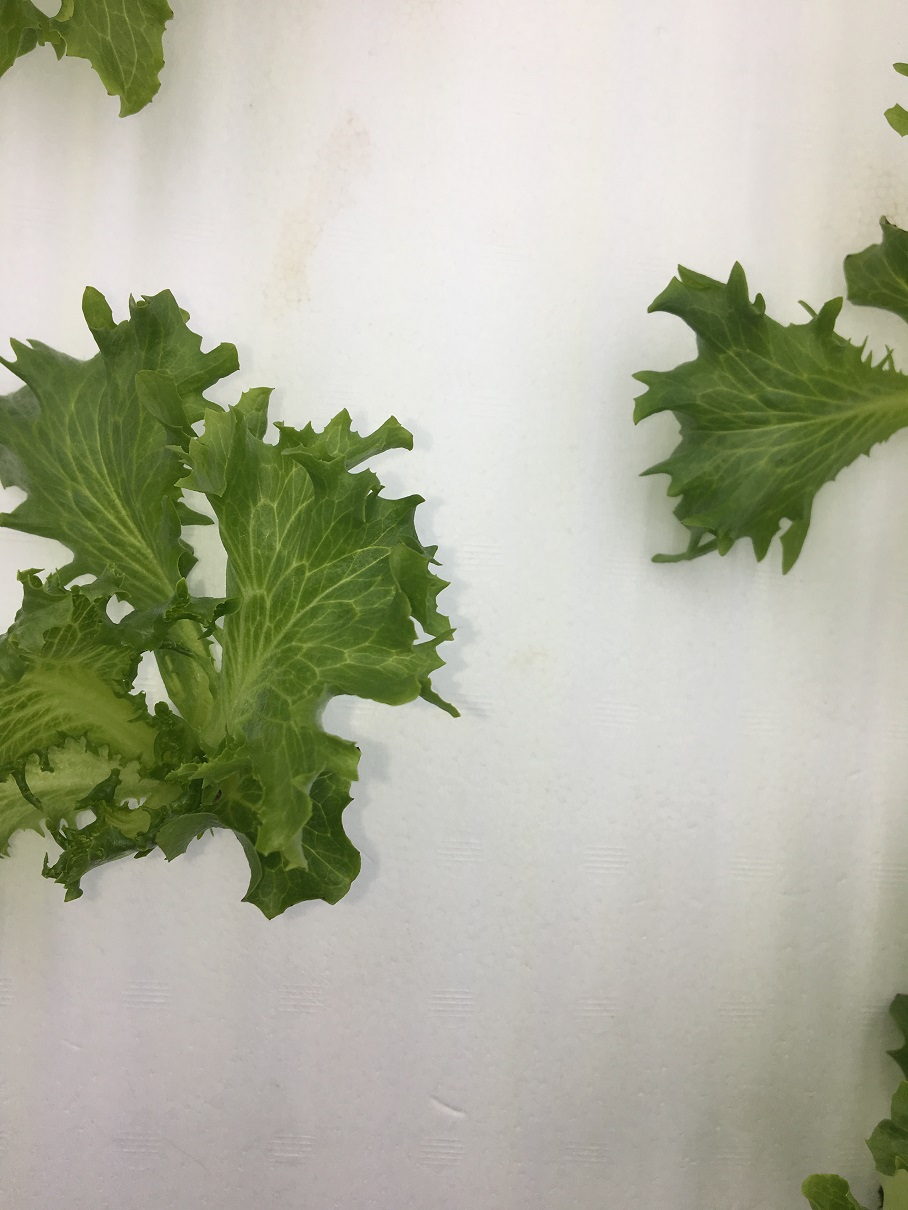tipburn: (865, 202, 908, 237), (828, 240, 856, 262), (166, 5, 187, 26), (353, 737, 372, 756), (154, 56, 176, 72), (101, 87, 118, 103)
